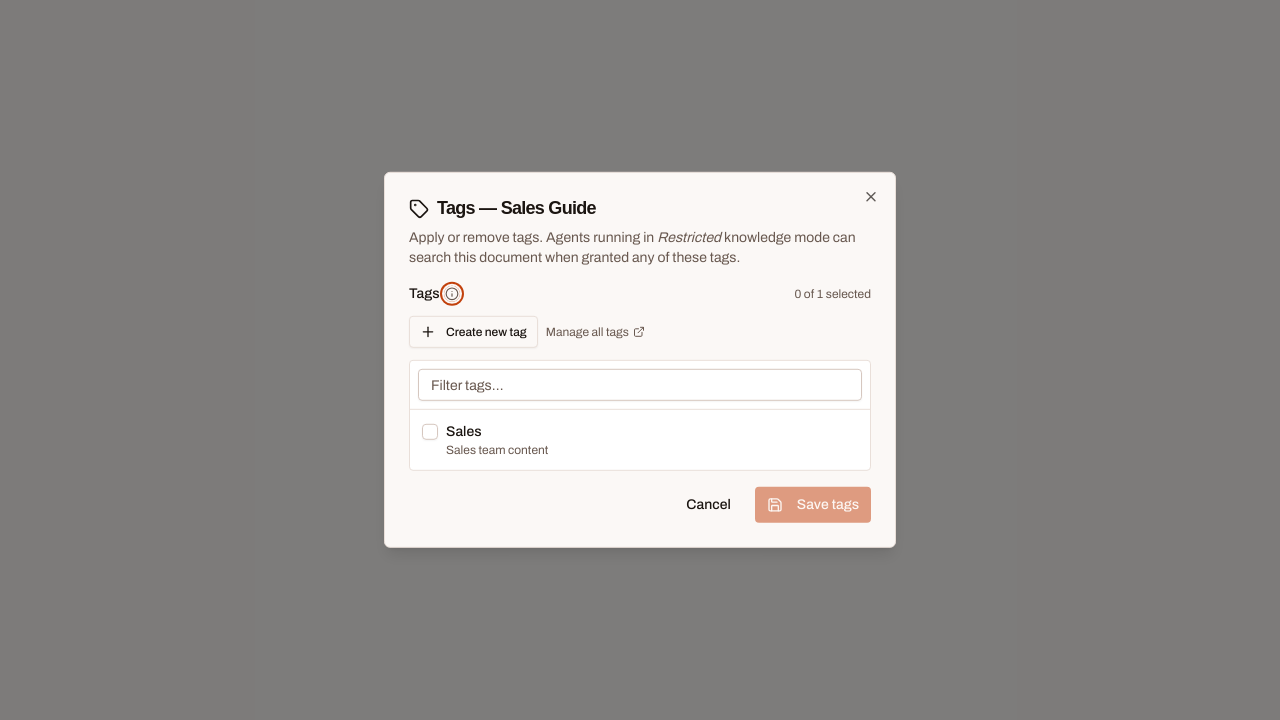
DocumentTagsModal › save › shows error message on save failure
Check: the text "Sales" is shown, box [446, 424, 482, 439]
What coordinates should you click on to do the following:
click the checkbox named "apply tag sales"
I would click on:
 (430, 432)
Its box is [422, 424, 438, 440].
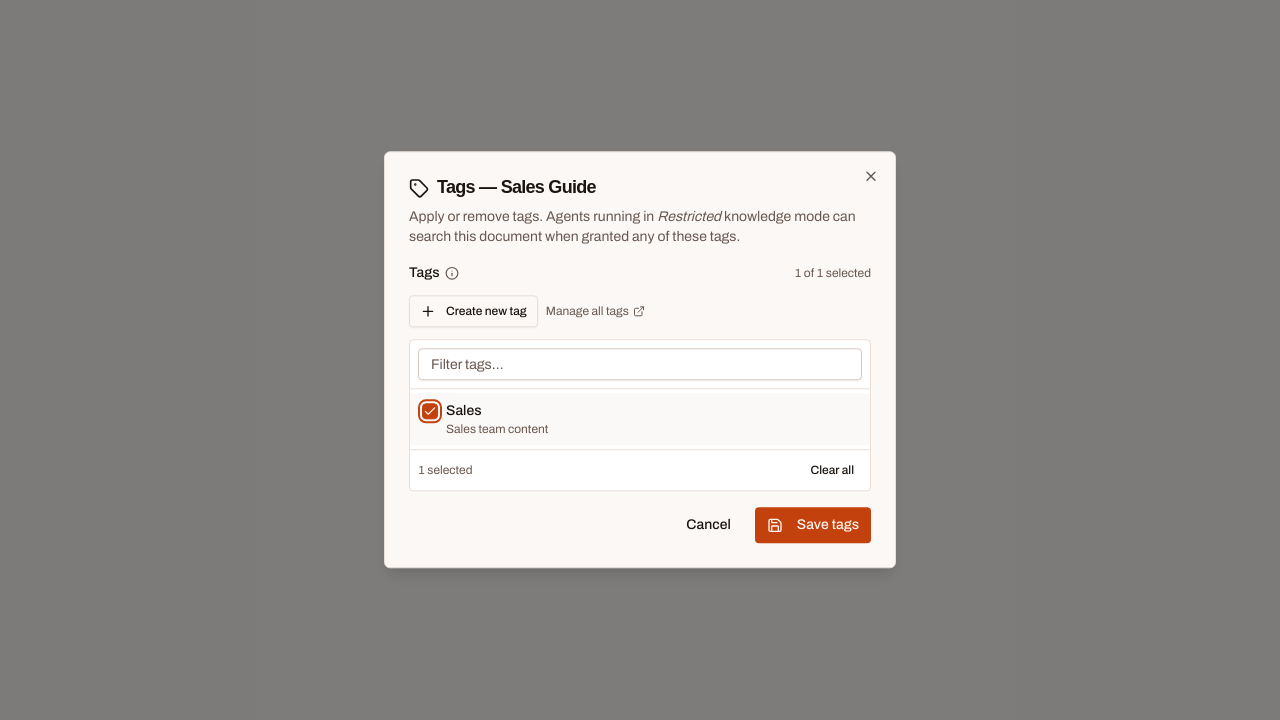
What coordinates should you click on to do the following:
click the button "Save tags"
I would click on:
 (813, 526)
Its box is [755, 508, 871, 544].
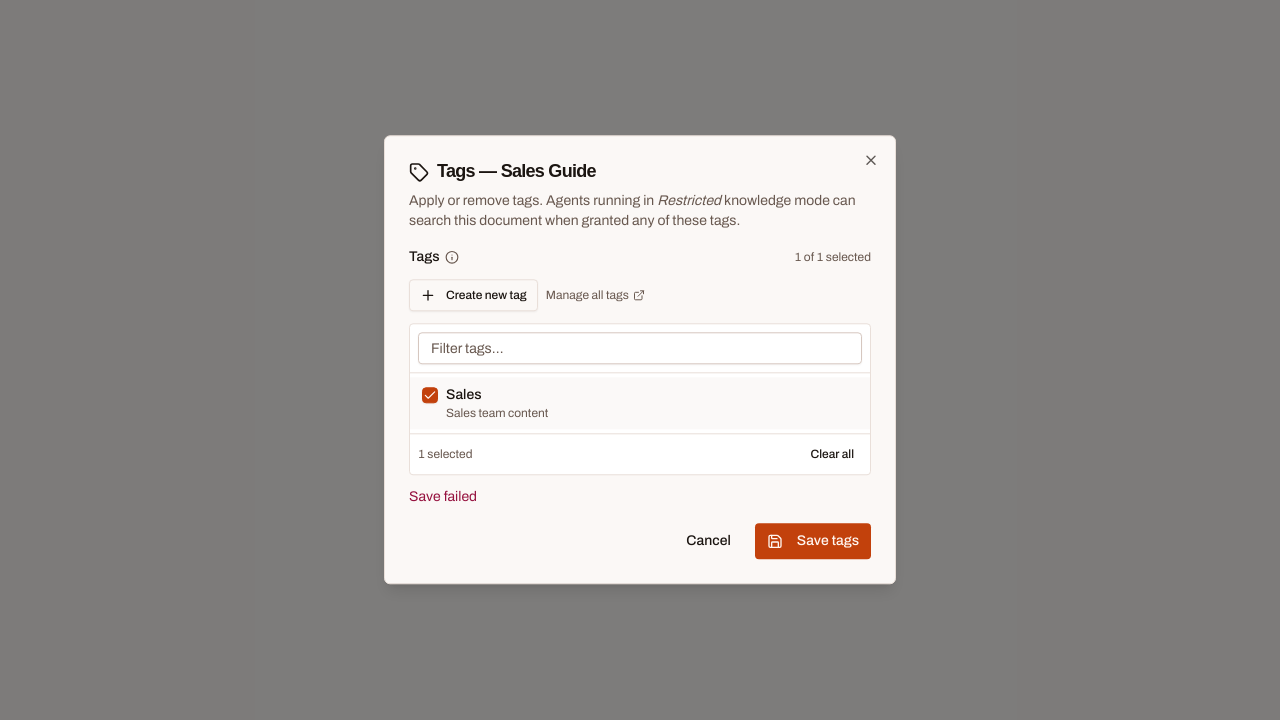
Check: the text "Save failed" is shown, box [409, 490, 477, 505]
